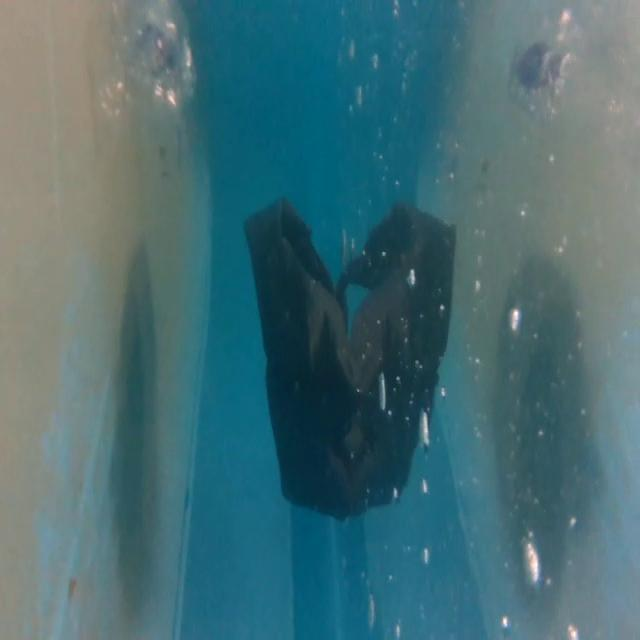plastic bags: (241, 188, 462, 524)
